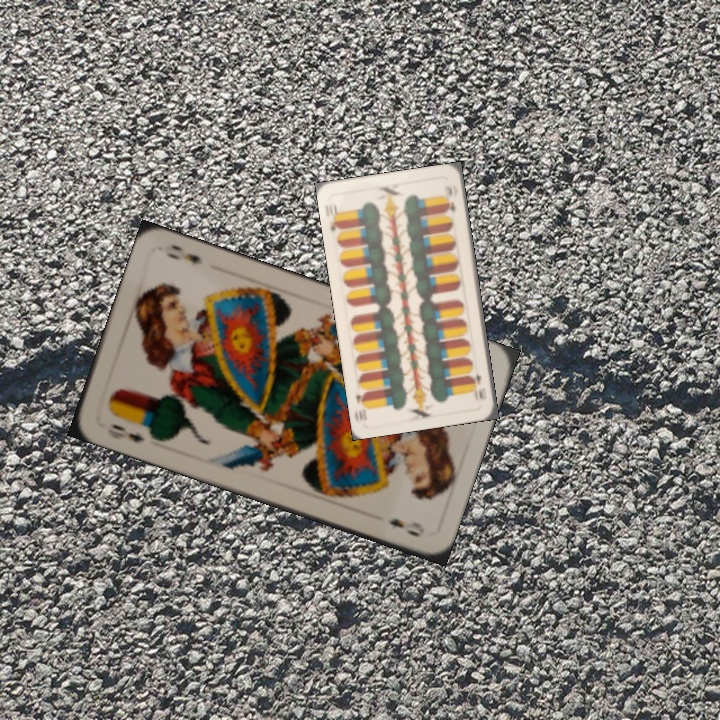E10: (468, 370, 489, 403), (326, 200, 344, 234)
EO: (107, 420, 148, 445)
